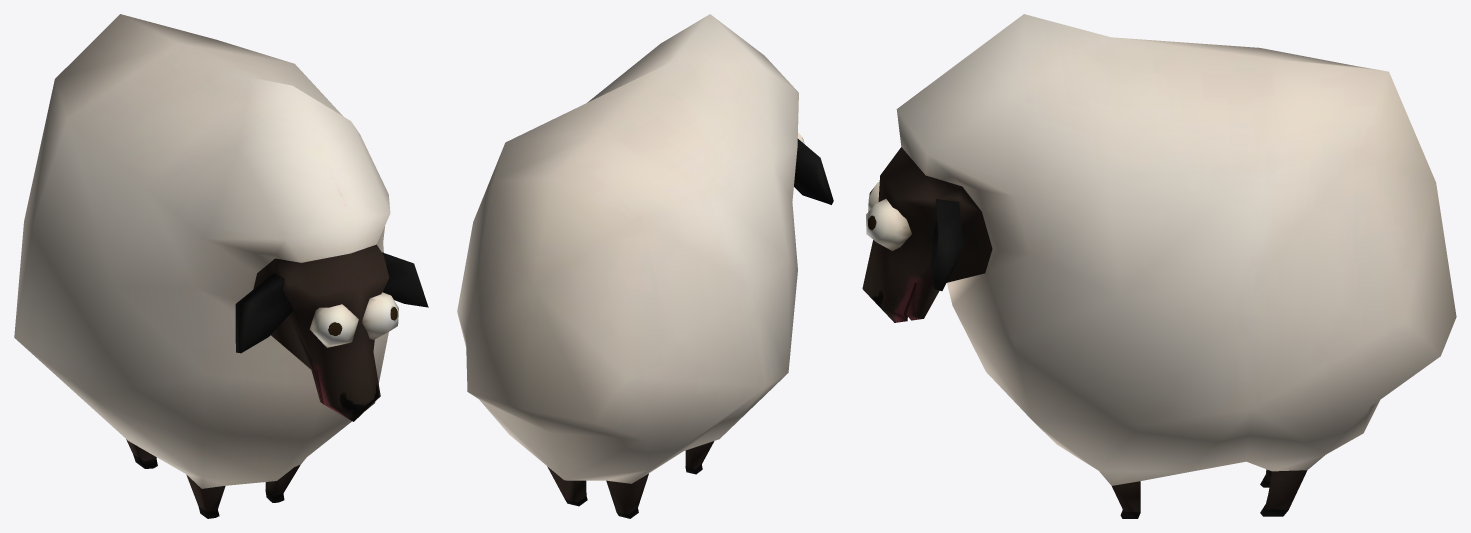
File: farm_sheep.glb
3 views of the same model, side by side, from view 1: azimuth 30°, elevation 25°; view 2: azimuth 150°, elevation 25°; view 3: azimuth 270°, elevation 25° (orthographic). The views are drawn at different scales.
Visible parts, largest first — view 1: farm:sheep; view 2: farm:sheep; view 3: farm:sheep.
Part boxes in pixels (box(x1,y1,x2,y2)): farm:sheep: box(14, 14, 428, 518); farm:sheep: box(457, 14, 833, 518); farm:sheep: box(862, 14, 1456, 518).
Size of the model in its own units: 1.06 by 1.37 by 1.52.
Materials: 1 (1 with a texture image).
